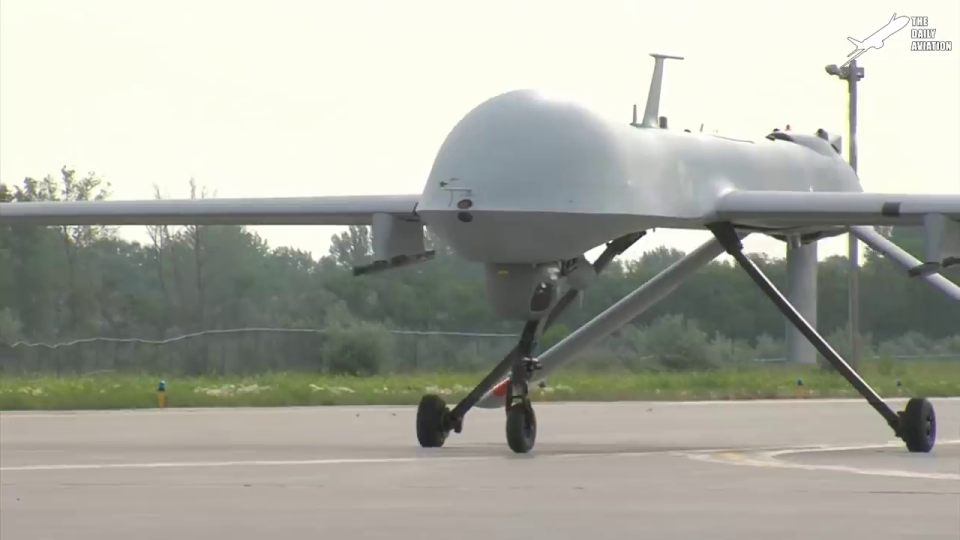military drone: (0, 52, 960, 453)
